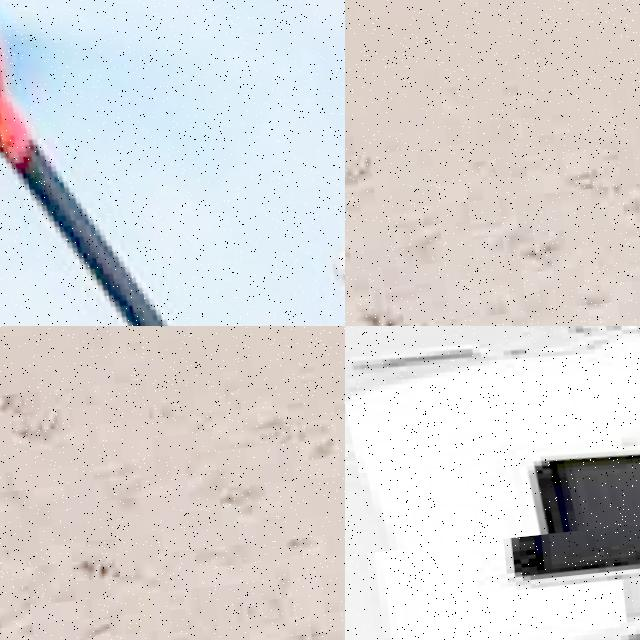drone: (0, 0, 345, 326), (345, 326, 640, 571)
